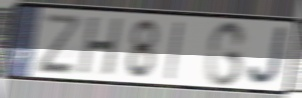8: (125, 17, 161, 81)
G: (203, 19, 249, 88)
H: (76, 16, 126, 79)
I: (163, 19, 184, 82)
J: (246, 25, 291, 88)
Z: (36, 11, 82, 75)
